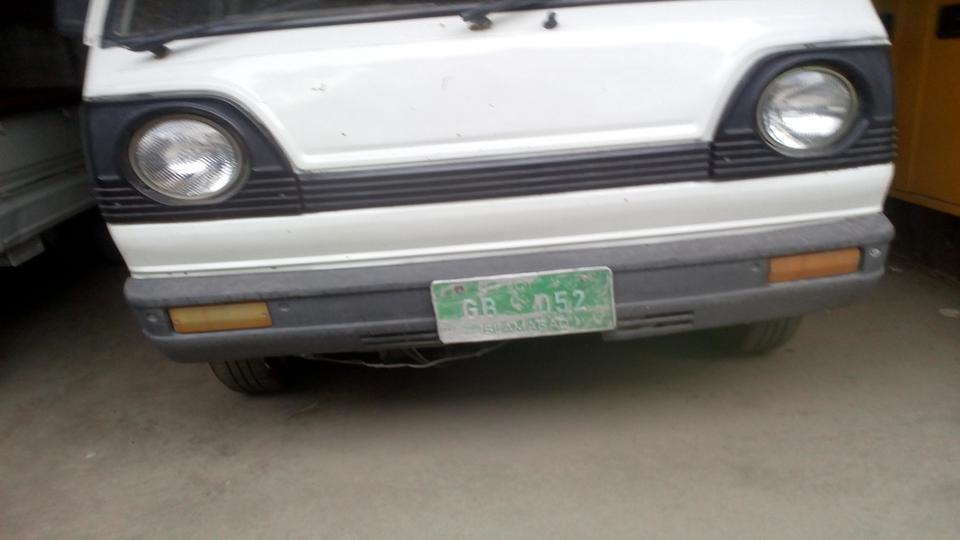NumberPlate: (427, 274, 626, 343)
